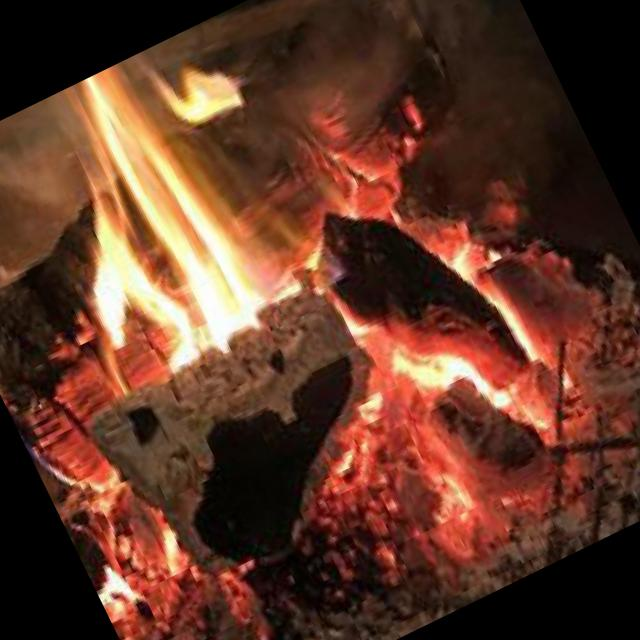fire: (0, 0, 558, 579)
